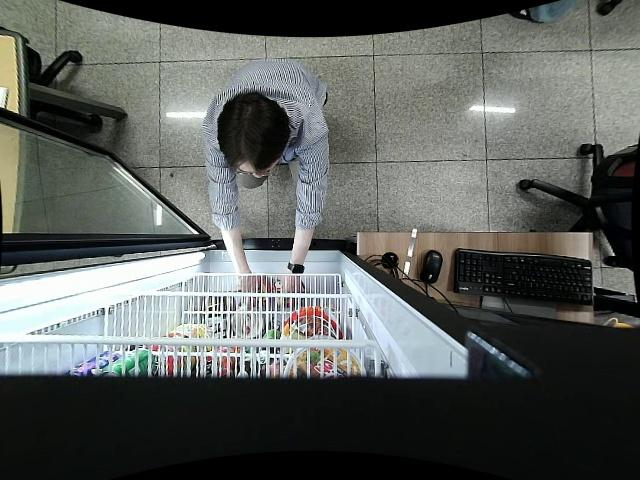00_hand: (229, 266, 265, 304), (283, 278, 306, 309)
